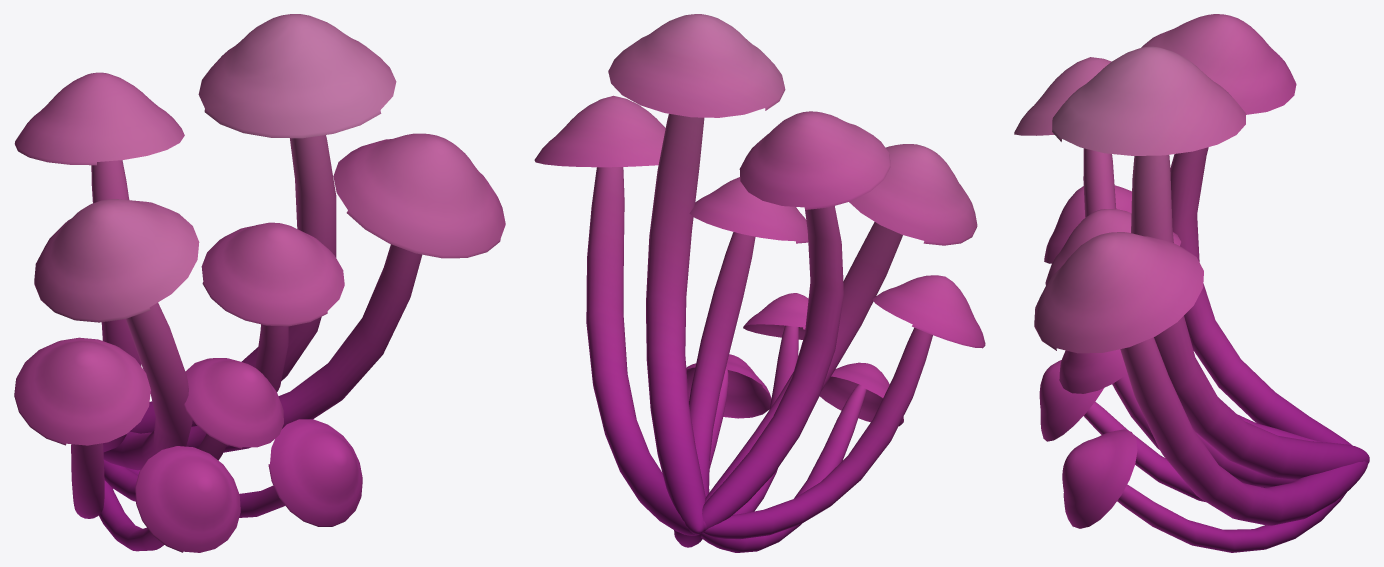
The model's file is SM_Mushrooms_01.fbx.
3 renders of one model, left to right at view 1: azimuth 30°, elevation 25°; view 2: azimuth 150°, elevation 25°; view 3: azimuth 270°, elevation 25°, orthographic. The views are drawn at different scales.
Parts seen in each view (by area): view 1: SM_Mushroom_01; view 2: SM_Mushroom_01; view 3: SM_Mushroom_01.
Part boxes in pixels (x1,y1,x2,y2): SM_Mushroom_01: (14, 14, 505, 552); SM_Mushroom_01: (534, 14, 985, 552); SM_Mushroom_01: (1014, 14, 1369, 552).
Bounding box in the file's own units: 148 × 156 × 96.91.
